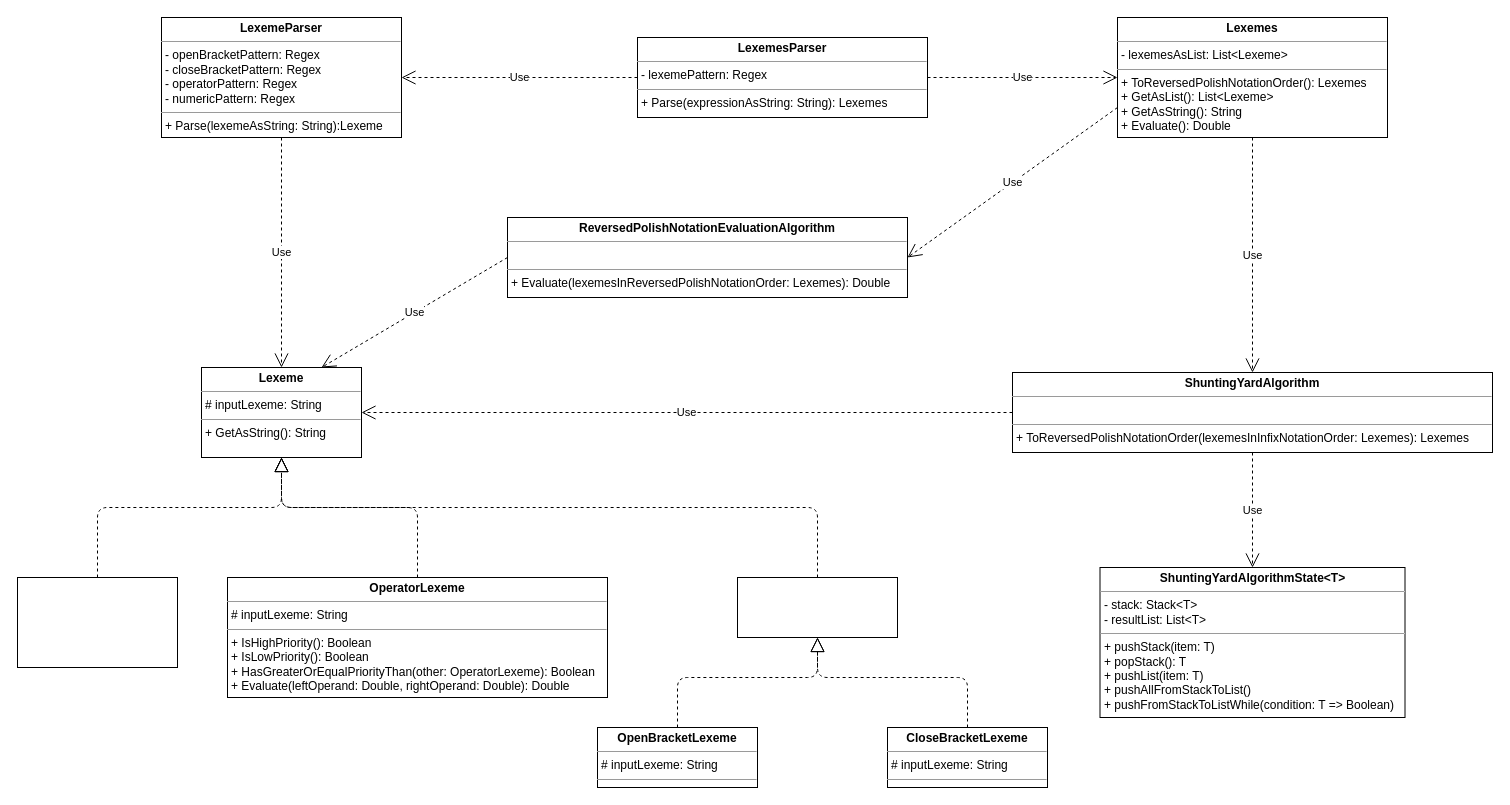
This 1510x805 diagram has some shape labels left out. Each missing label, with the centre of its shape:
BracketLexeme # inputLexeme: String: (x=817, y=607)
NumericLexeme # inputLexeme: String + GetAsInt(): Int: (x=97, y=622)
